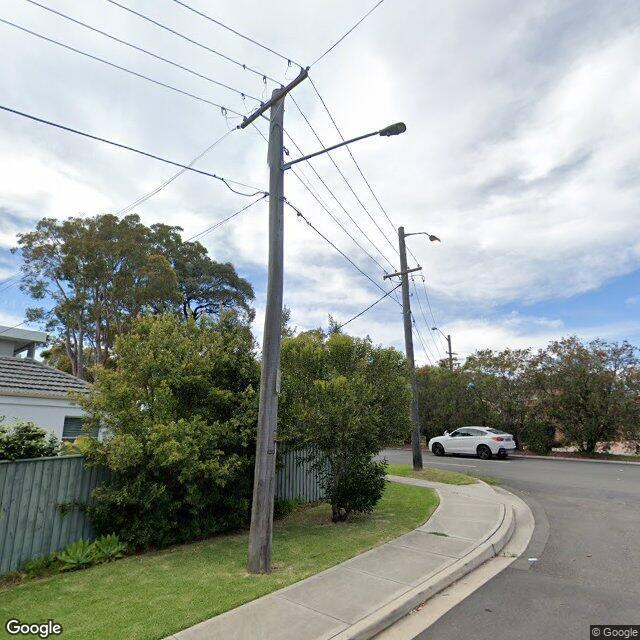crossarm: (240, 69, 312, 129), (382, 266, 422, 279)
streetlight: (279, 121, 407, 170), (405, 231, 441, 243), (432, 326, 449, 341)
timber-pole: (247, 86, 288, 575), (397, 227, 424, 472), (448, 335, 452, 370)
